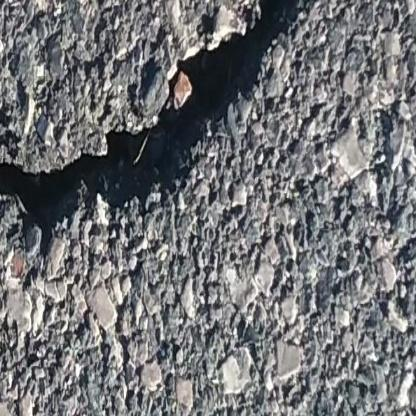Cracks: (0, 0, 332, 266)
